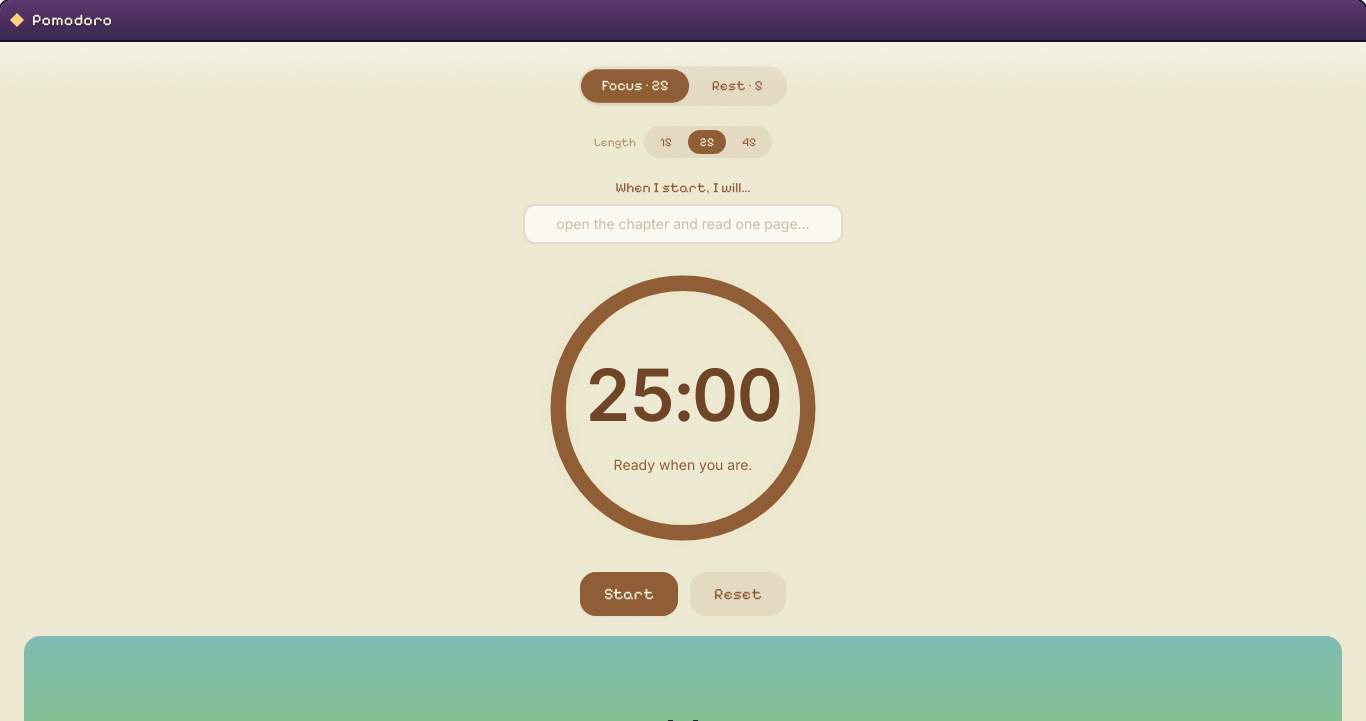
Test: PomodoroTimer — session bloom + harvest ceremony › pins her named intention as a sign inside the scene once the session starts, not floating above it
Type "read one page" into the field labelled "When I start, I will…".
click(683, 224); type("read one page")  # box [523,204,843,244]
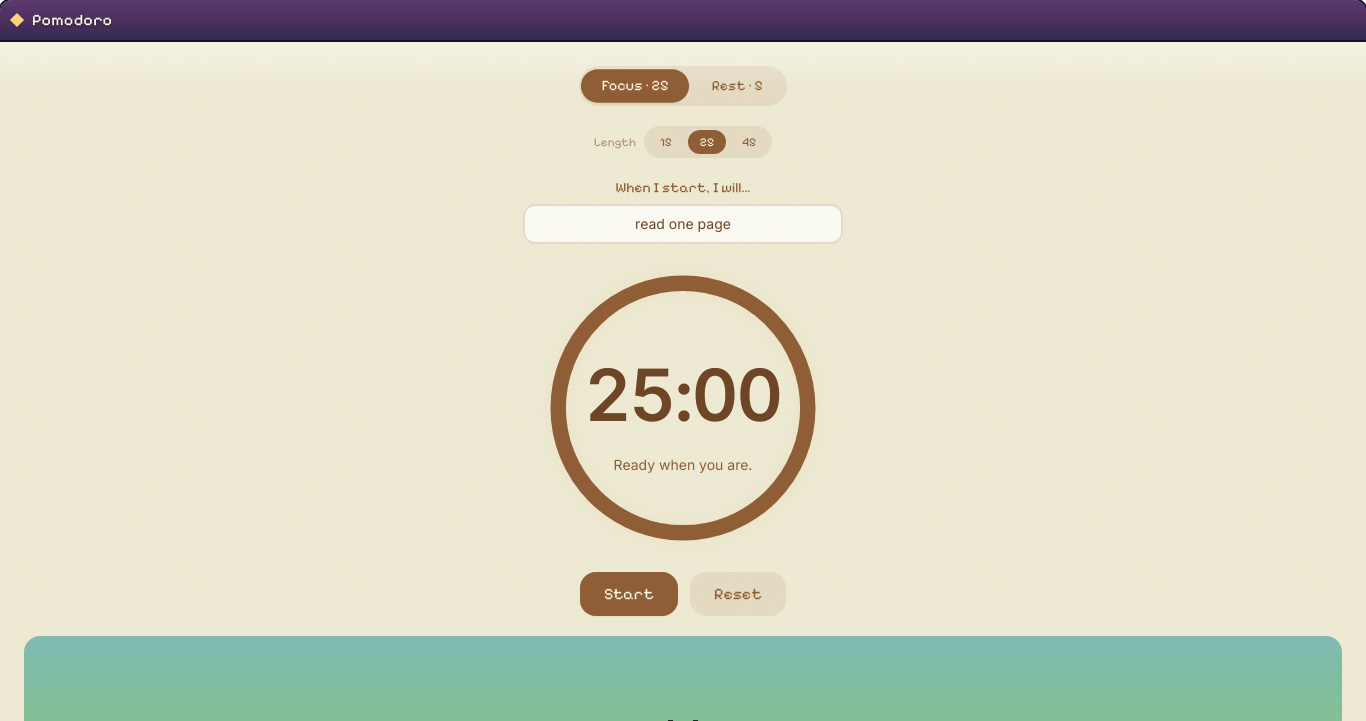
Click the button "Start".
click(629, 594)  # box [580,572,678,616]
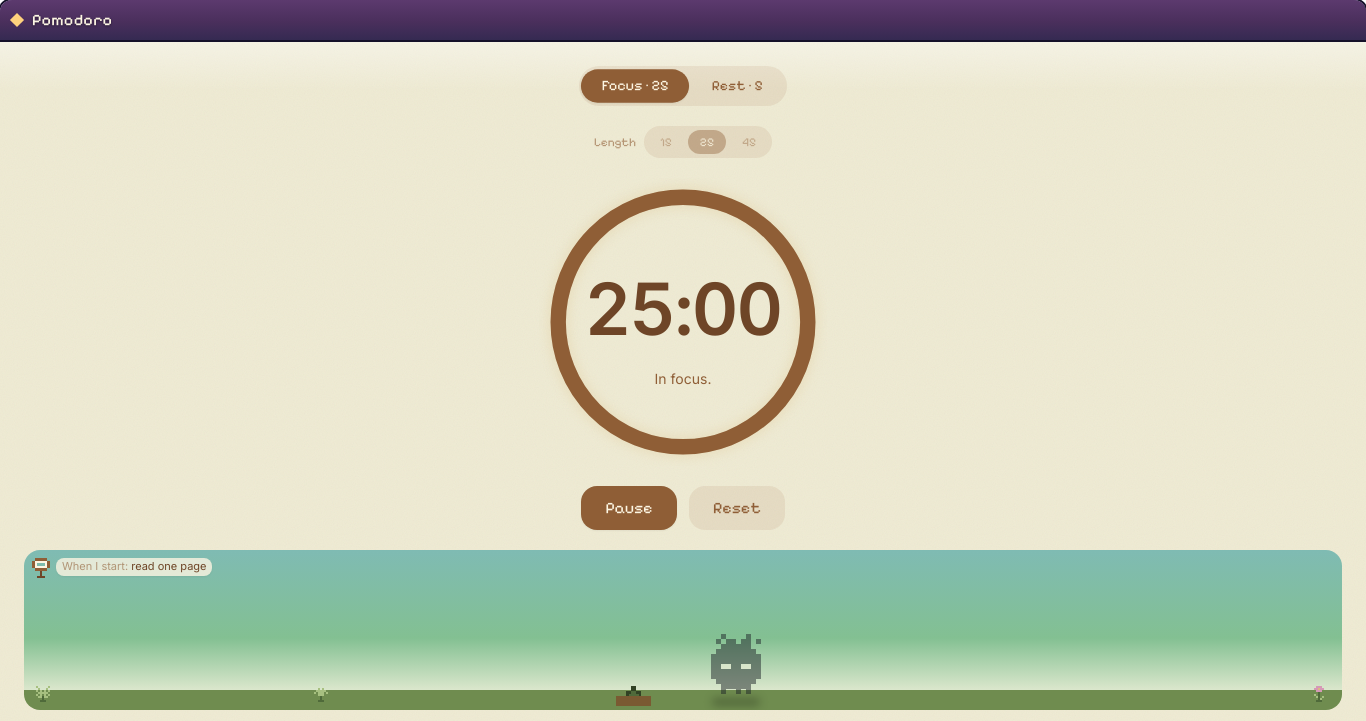
Check: the element showing "When I start: read one page" is shown, box [24,550,1342,710]
